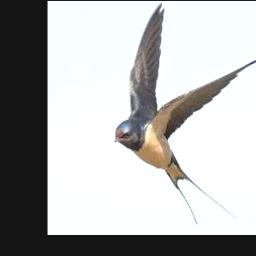Swallow: (114, 1, 256, 224)
